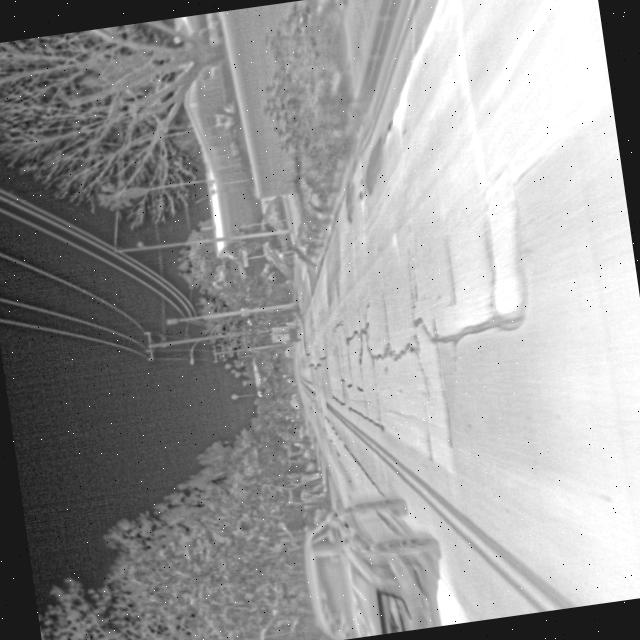Vehicle: (293, 487, 454, 640)
